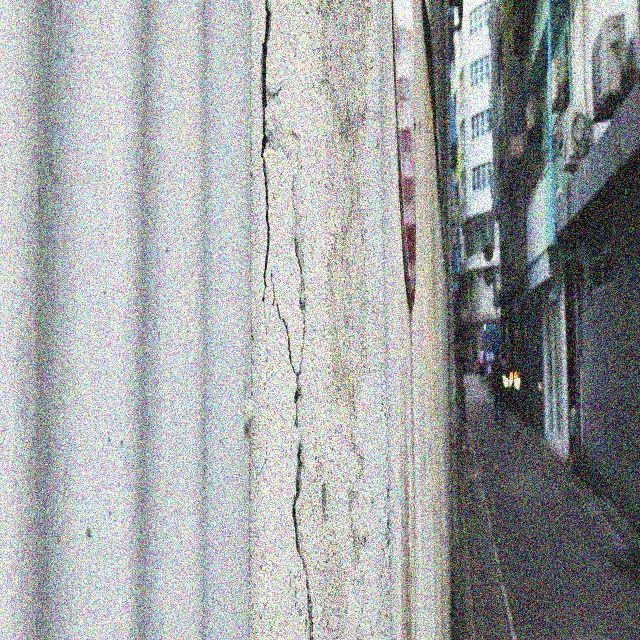SurfaceCrack: (481, 2, 640, 633), (199, 0, 343, 640)
